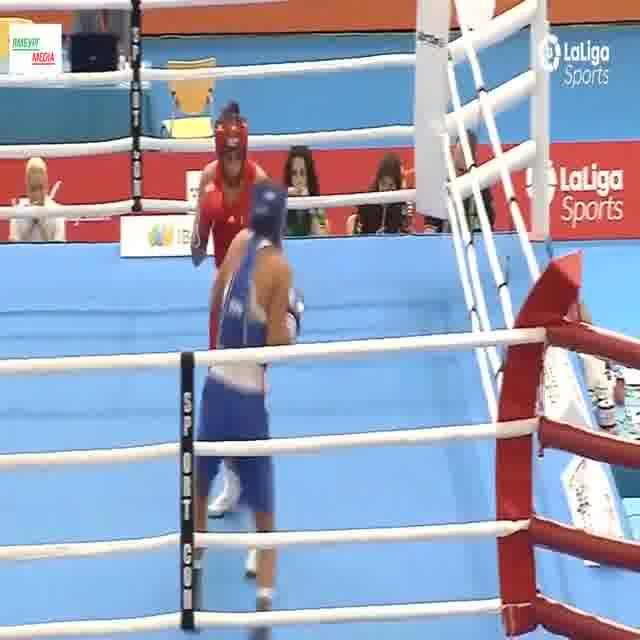blue-player: (176, 183, 306, 640)
red-player: (186, 98, 281, 580)
